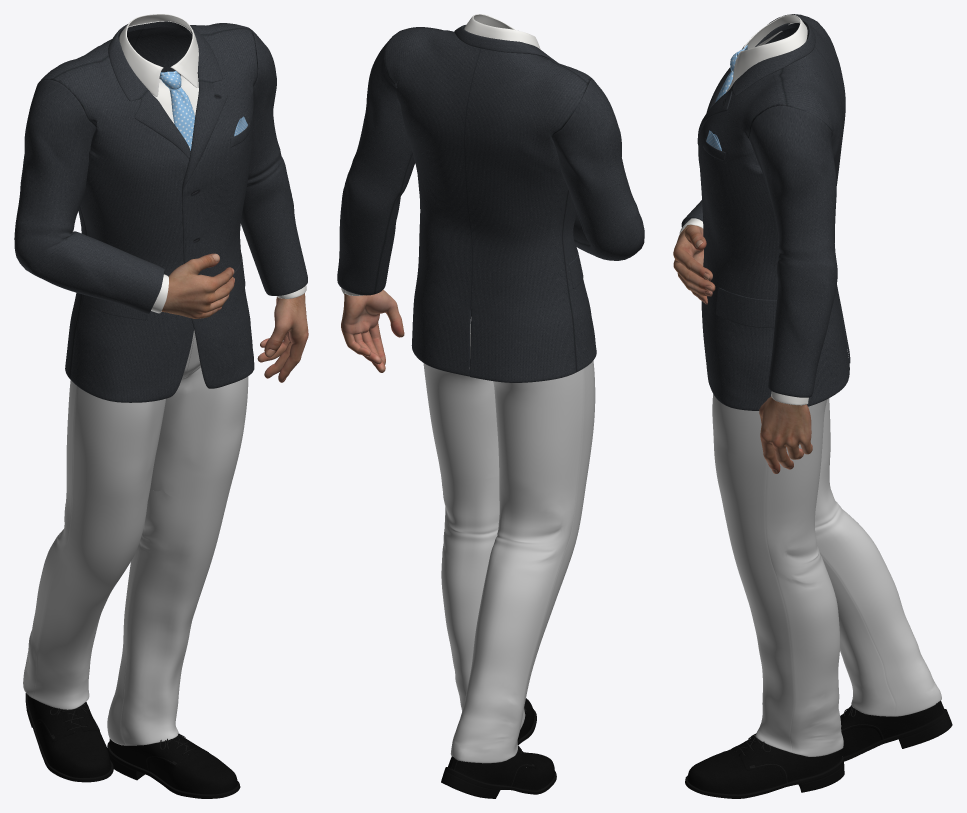
File: manshenti.fbx
The picture shows the model from 3 angles, left to right: view 1: azimuth 30°, elevation 25°; view 2: azimuth 150°, elevation 25°; view 3: azimuth 270°, elevation 25°; orthographic projection. The views are drawn at different scales.
Parts seen in each view (by area): view 1: polySurface553, polySurface552, polySurface512, hunli:3_SkinHand001; view 2: polySurface553, polySurface552, polySurface512, hunli:3_SkinHand001; view 3: polySurface553, polySurface552, polySurface512, hunli:3_SkinHand001.
Part boxes in pixels (x1=…): polySurface553: x1=14, y1=14, x2=307, y2=402; polySurface552: x1=23, y1=330, x2=248, y2=745; polySurface512: x1=25, y1=693, x2=240, y2=798; hunli:3_SkinHand001: x1=161, y1=253, x2=308, y2=382; polySurface553: x1=337, y1=14, x2=644, y2=382; polySurface552: x1=423, y1=317, x2=595, y2=763; polySurface512: x1=441, y1=698, x2=556, y2=798; hunli:3_SkinHand001: x1=341, y1=289, x2=404, y2=372; polySurface553: x1=679, y1=14, x2=850, y2=410; polySurface552: x1=712, y1=394, x2=941, y2=756; polySurface512: x1=685, y1=701, x2=952, y2=798; hunli:3_SkinHand001: x1=673, y1=224, x2=812, y2=473.
Size of the model in its own units: 3.53 by 8.56 by 2.85.
